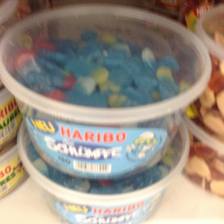candy: (1, 6, 213, 181)
